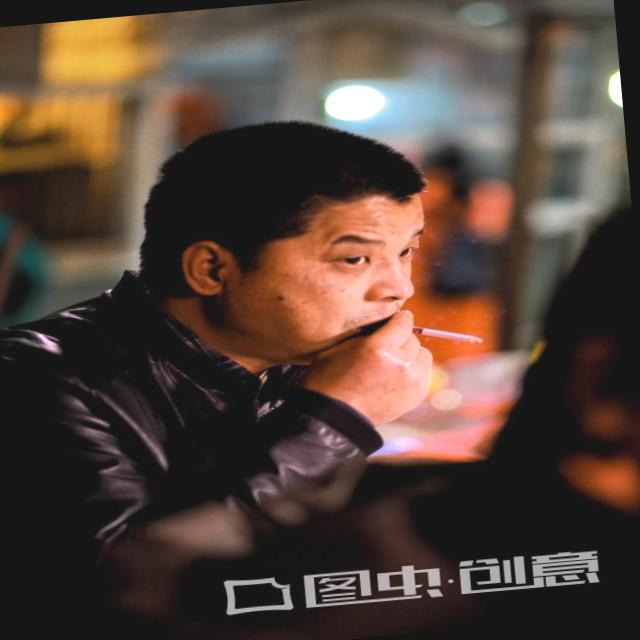cigarette: (404, 314, 486, 352)
